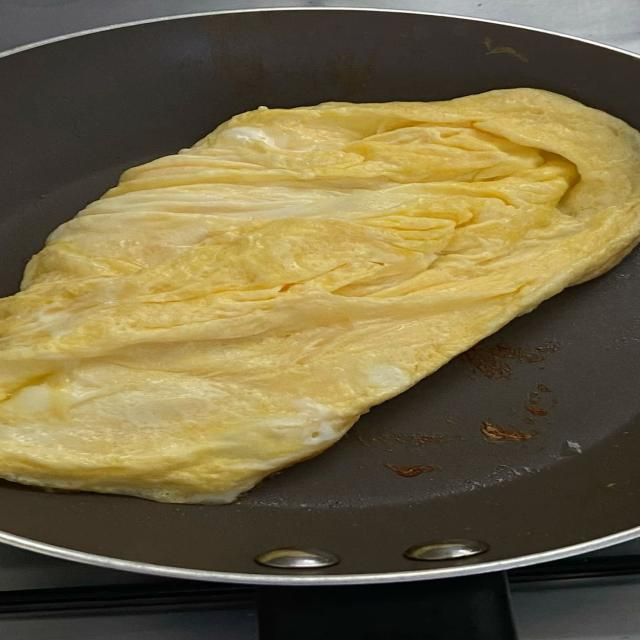omelette: (0, 89, 639, 502)
